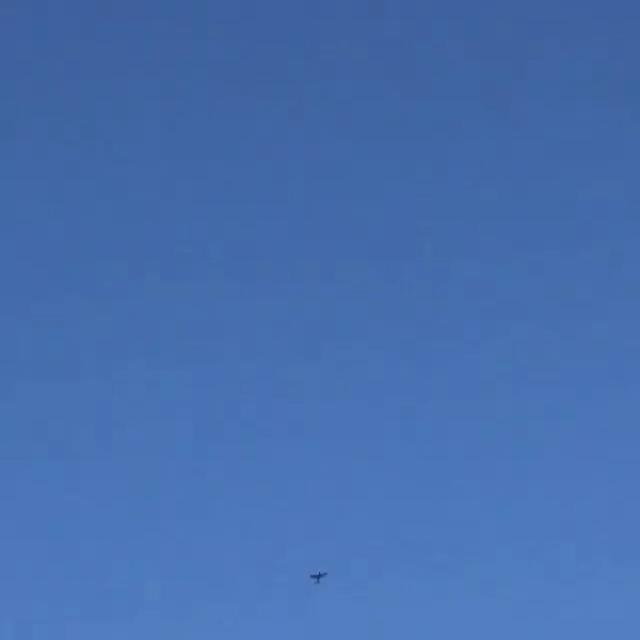AirPlane: (298, 553, 336, 589)
